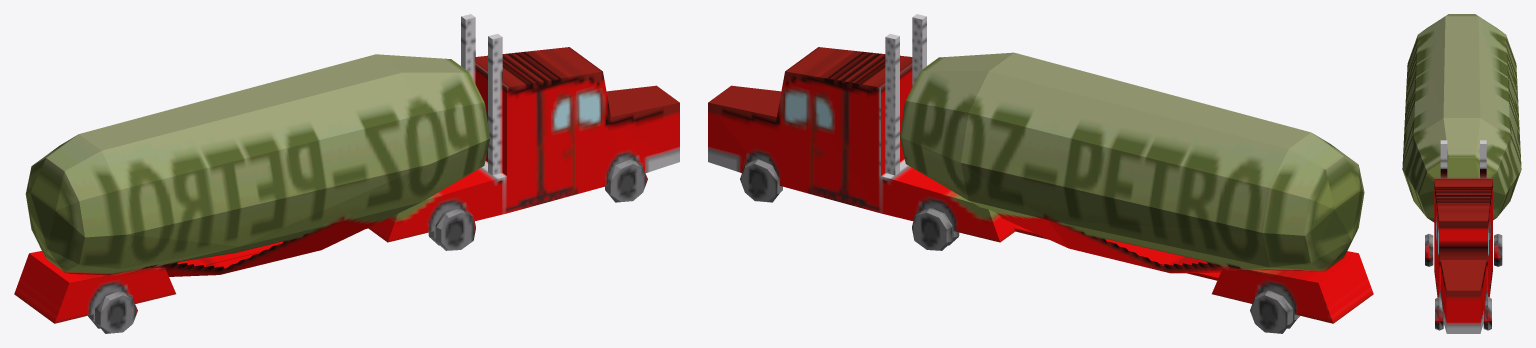
File: CityOil.glb
3 views of the same model, side by side, from view 1: azimuth 30°, elevation 25°; view 2: azimuth 150°, elevation 25°; view 3: azimuth 270°, elevation 25° (orthographic). The views are drawn at different scales.
Parts seen in each view (by area): view 1: CityOil; view 2: CityOil; view 3: CityOil.
Part boxes in pixels (x1,y1,x2,y2): CityOil: [14, 14, 679, 333]; CityOil: [708, 14, 1373, 333]; CityOil: [1402, 14, 1521, 333].
Size of the model in its own units: 312 by 91.59 by 69.79.
1 material, 1 textured.
